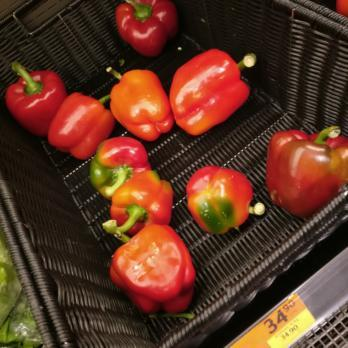Capsicum: (104, 223, 196, 316), (266, 123, 348, 216), (170, 42, 248, 134), (186, 163, 256, 235), (106, 69, 173, 140), (45, 90, 110, 161), (3, 72, 62, 129), (113, 1, 176, 53)
